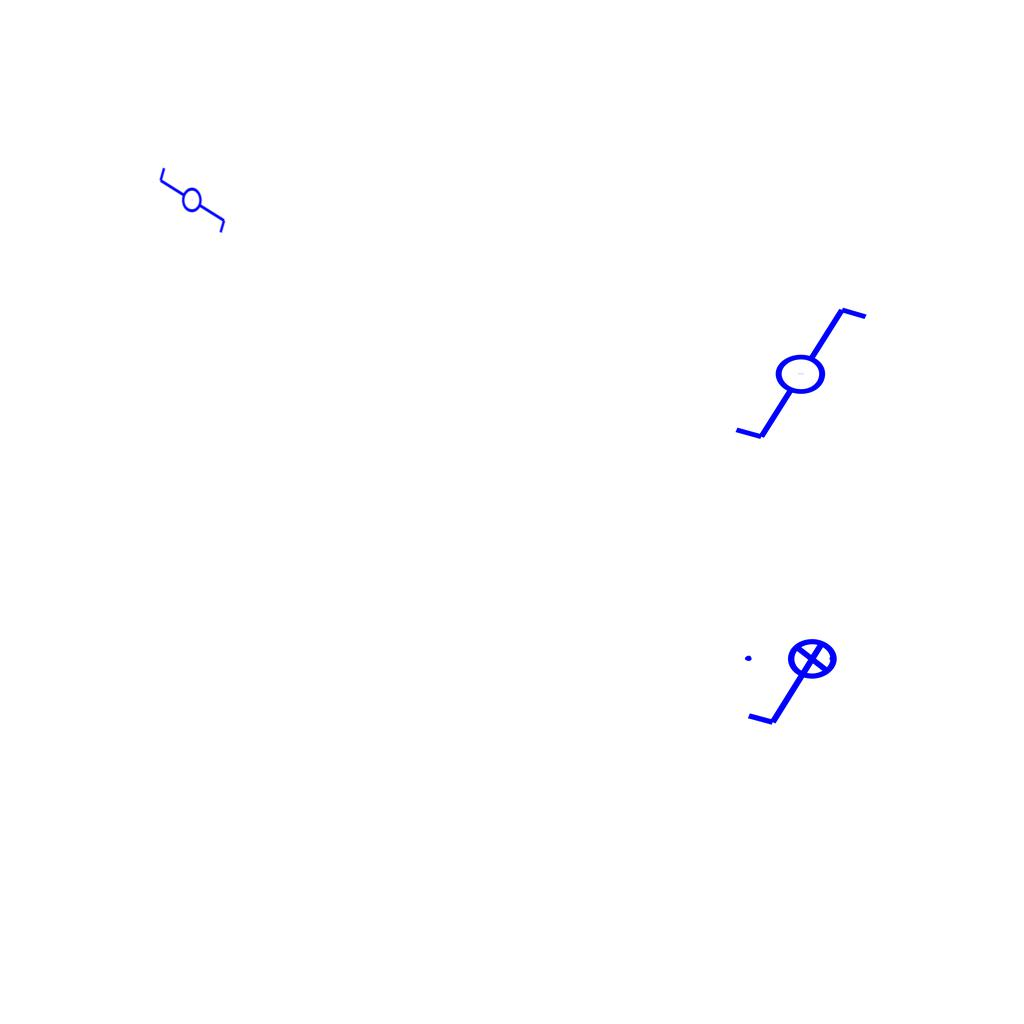Ausschalter_beleuchtet: (739, 637, 851, 733)
Wechselschalter: (714, 300, 871, 444), (157, 157, 229, 235)
